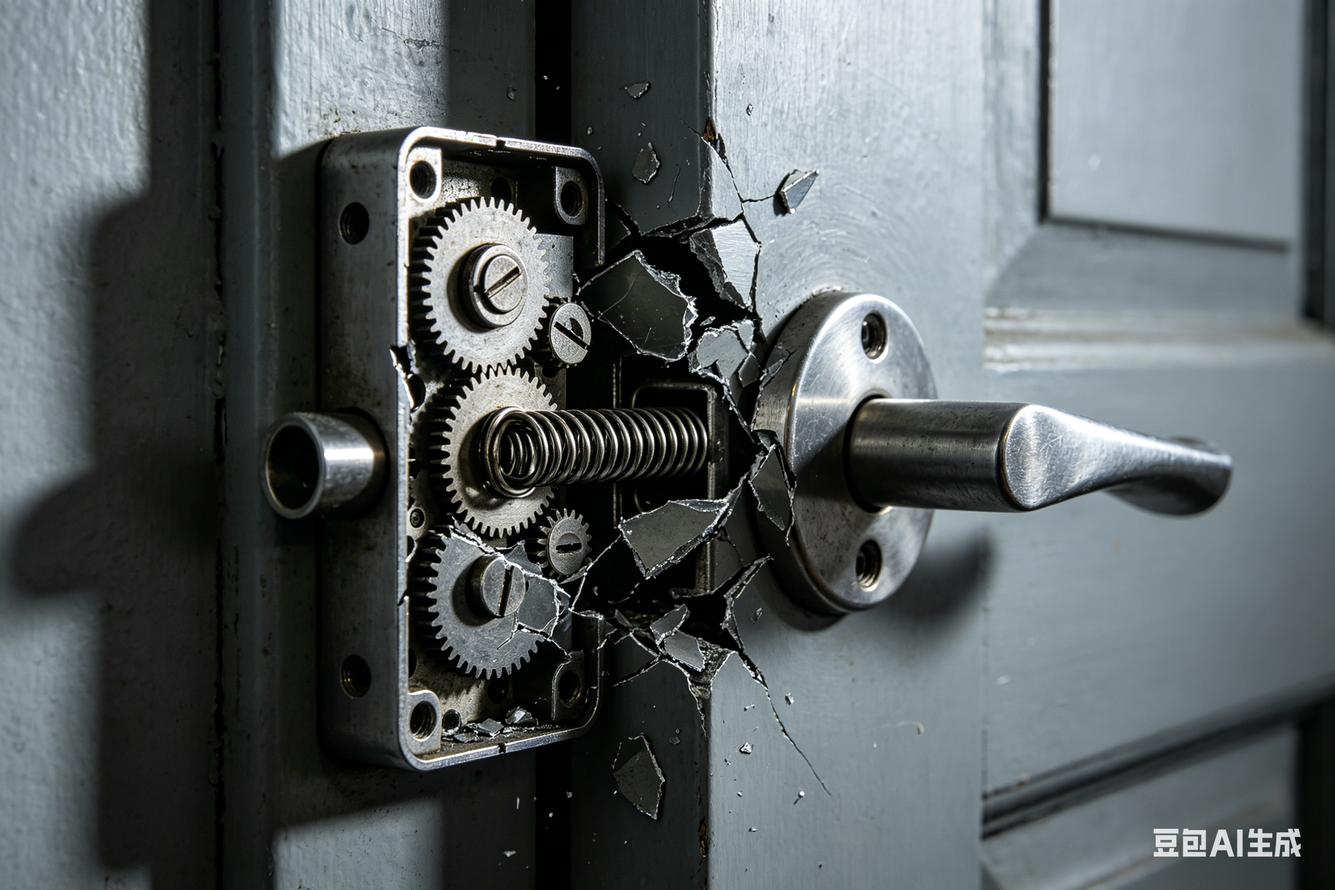BadLock: (550, 172, 792, 680)
